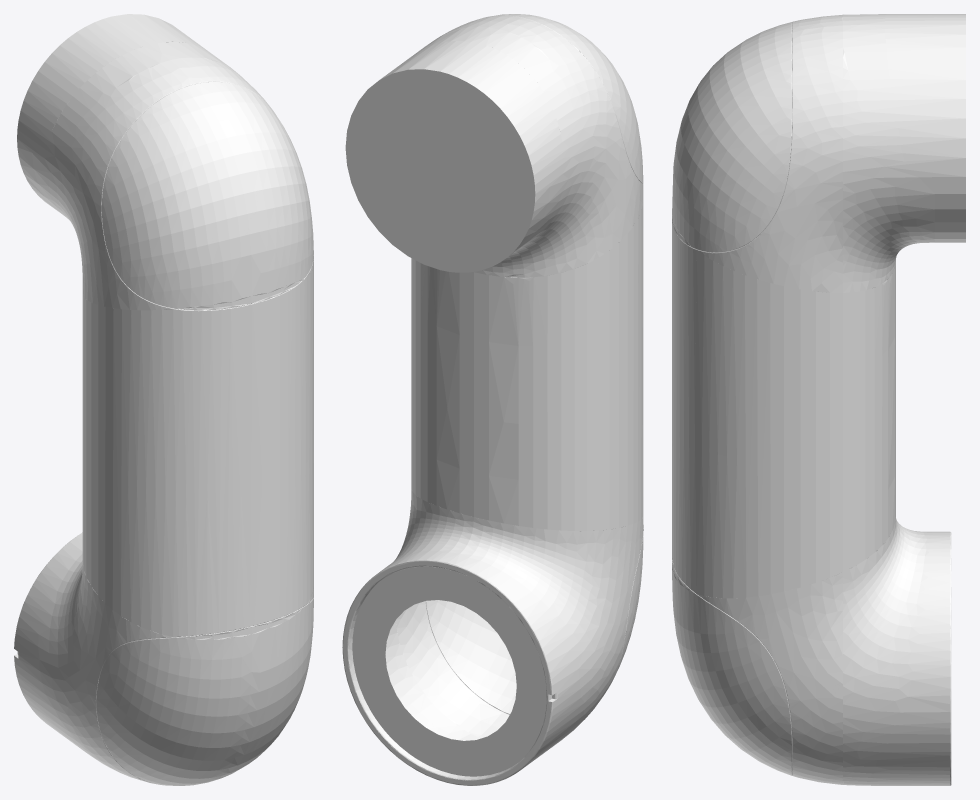
3 views of the same model, side by side, from view 1: azimuth 30°, elevation 25°; view 2: azimuth 150°, elevation 25°; view 3: azimuth 270°, elevation 25° (orthographic). The views are drawn at different scales.
Visible parts, largest first — view 1: node; view 2: node; view 3: node.
Part boxes in pixels (left/top/right/bottom): node: left=14, top=14, right=313, bottom=785; node: left=342, top=14, right=643, bottom=785; node: left=672, top=14, right=965, bottom=785.
Bounding box in the file's own units: 0.048 × 0.156 × 0.0554.
1 material, 1 textured.
